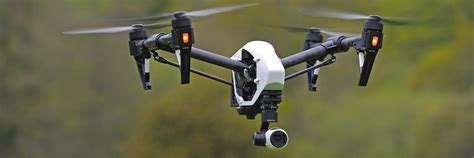drone_rotary_wing: (296, 7, 453, 30), (105, 3, 262, 25), (267, 22, 367, 50), (61, 23, 204, 40)
